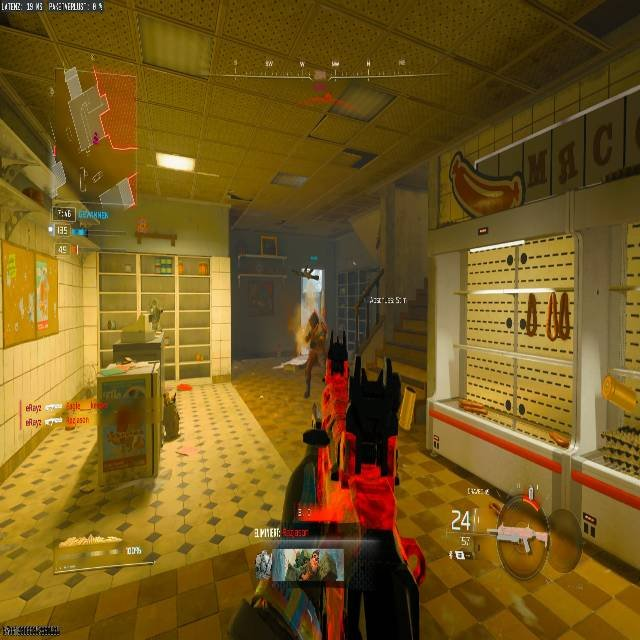head: (308, 311, 319, 326)
player: (302, 311, 329, 397)
